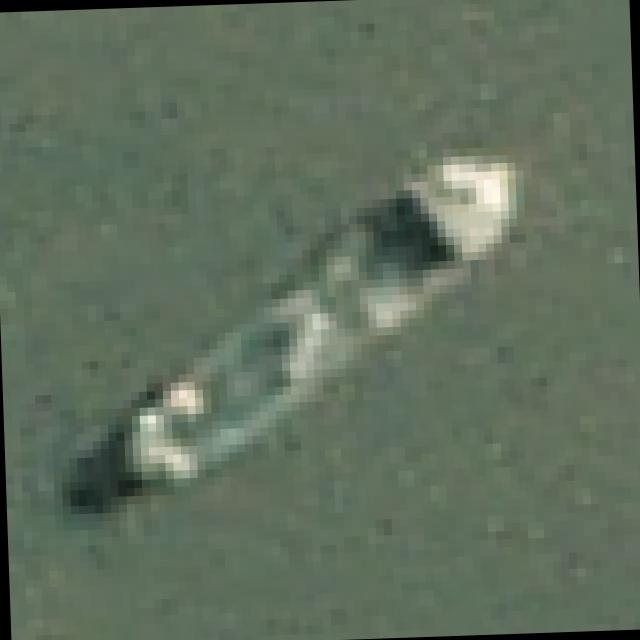ship: (56, 136, 534, 522)
